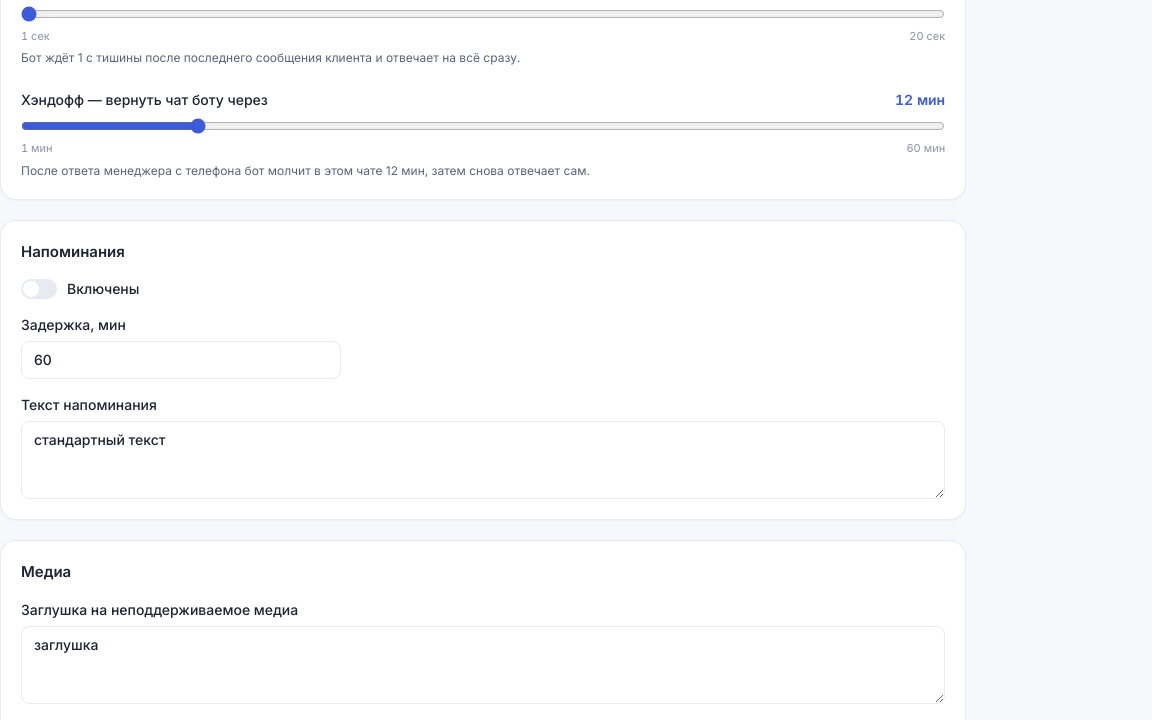
Scenario: shows an error and reverts a number field to baseline when saving fails
The width and height of the screenshot is (1152, 720).
(page scrolled)
Replace the text in the number field labelled "Задержка, мин" with "90" at (181, 360), box x1=21 y1=341 x2=341 y2=379
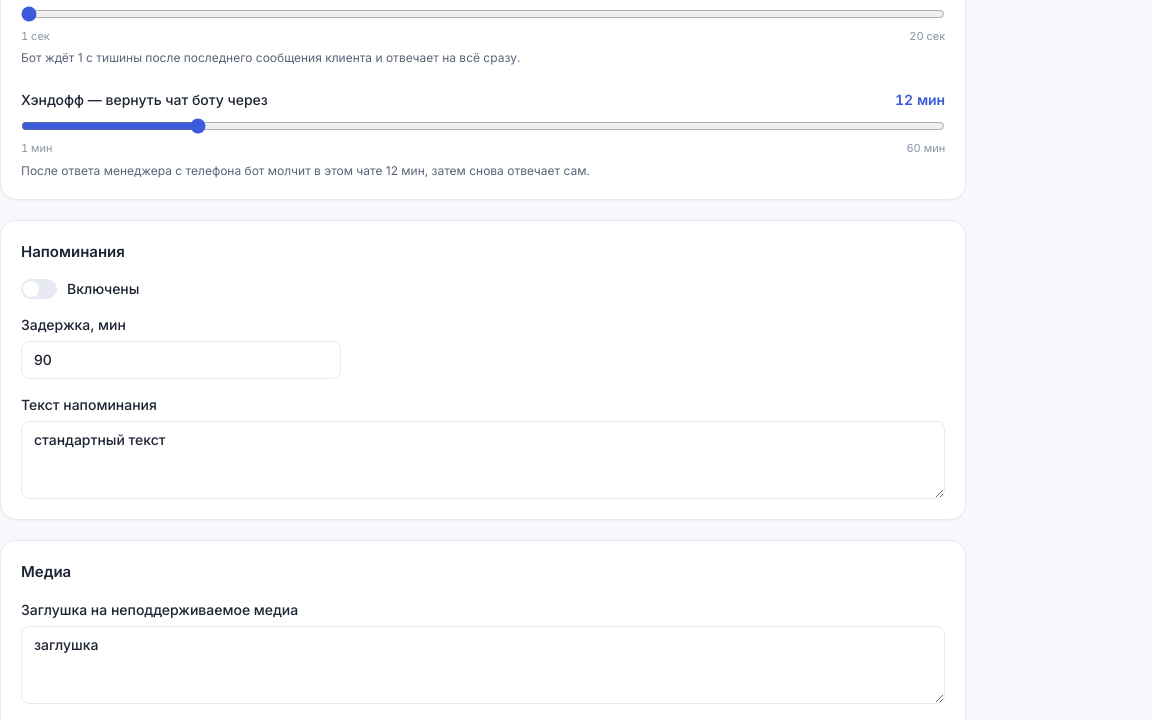
Leave the number field labelled "Задержка, мин", box x1=21 y1=341 x2=341 y2=379
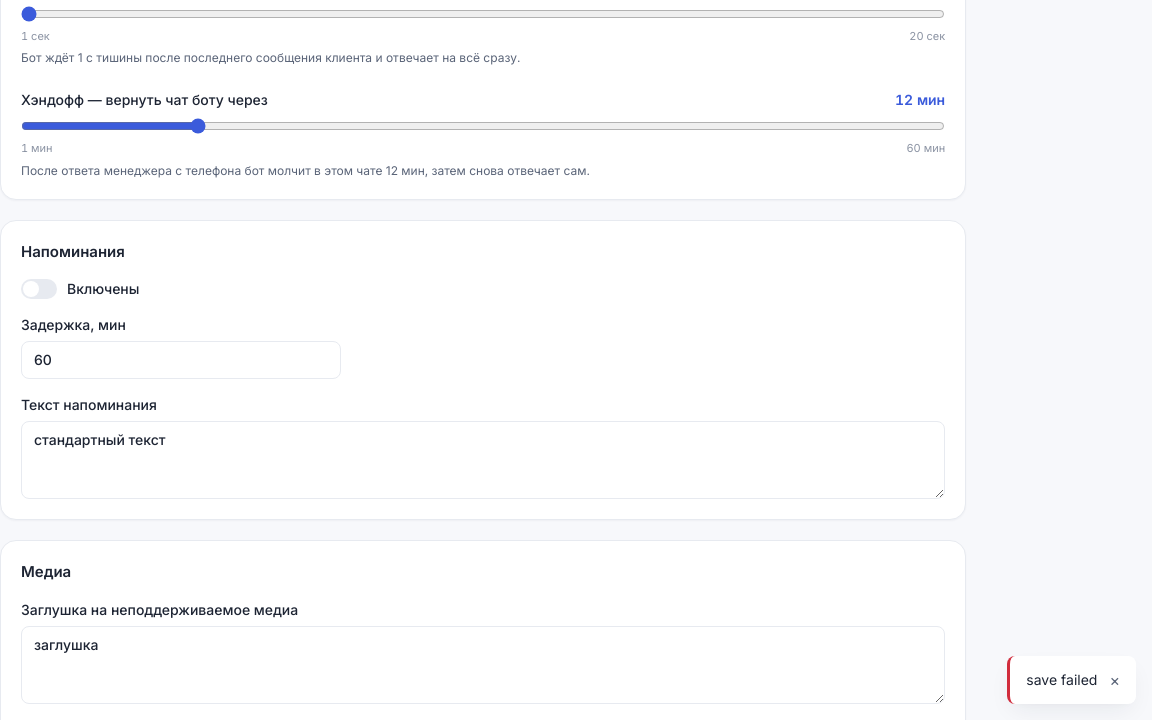
Now the message shows "save failed", box x1=1026 y1=671 x2=1097 y2=688
Now the number field labelled "Задержка, мин" holds "60", box x1=21 y1=341 x2=341 y2=379
